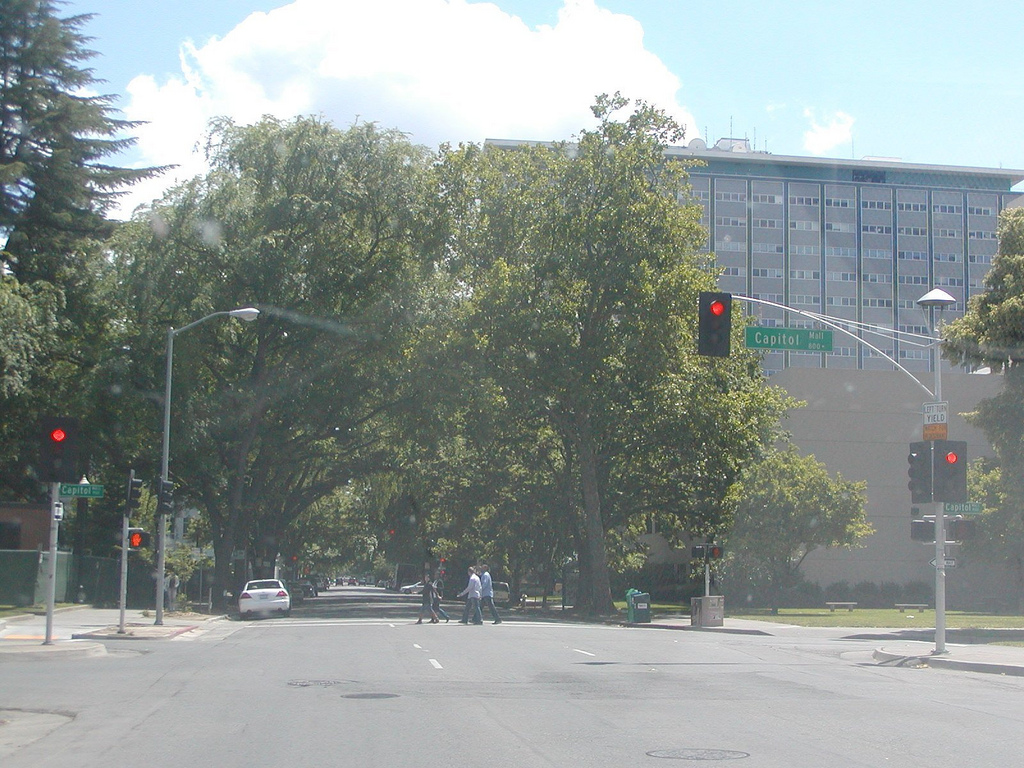traffic_light: (38, 415, 79, 484), (696, 291, 733, 358), (932, 438, 968, 504)
